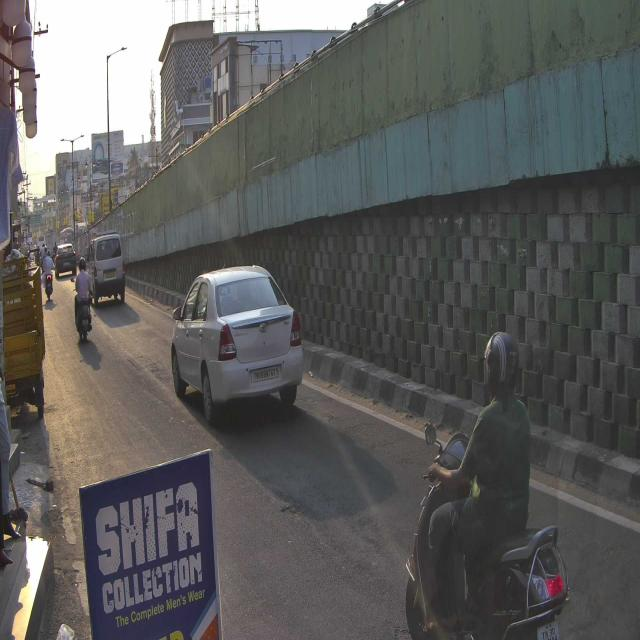single_rider: (403, 329, 572, 640)
